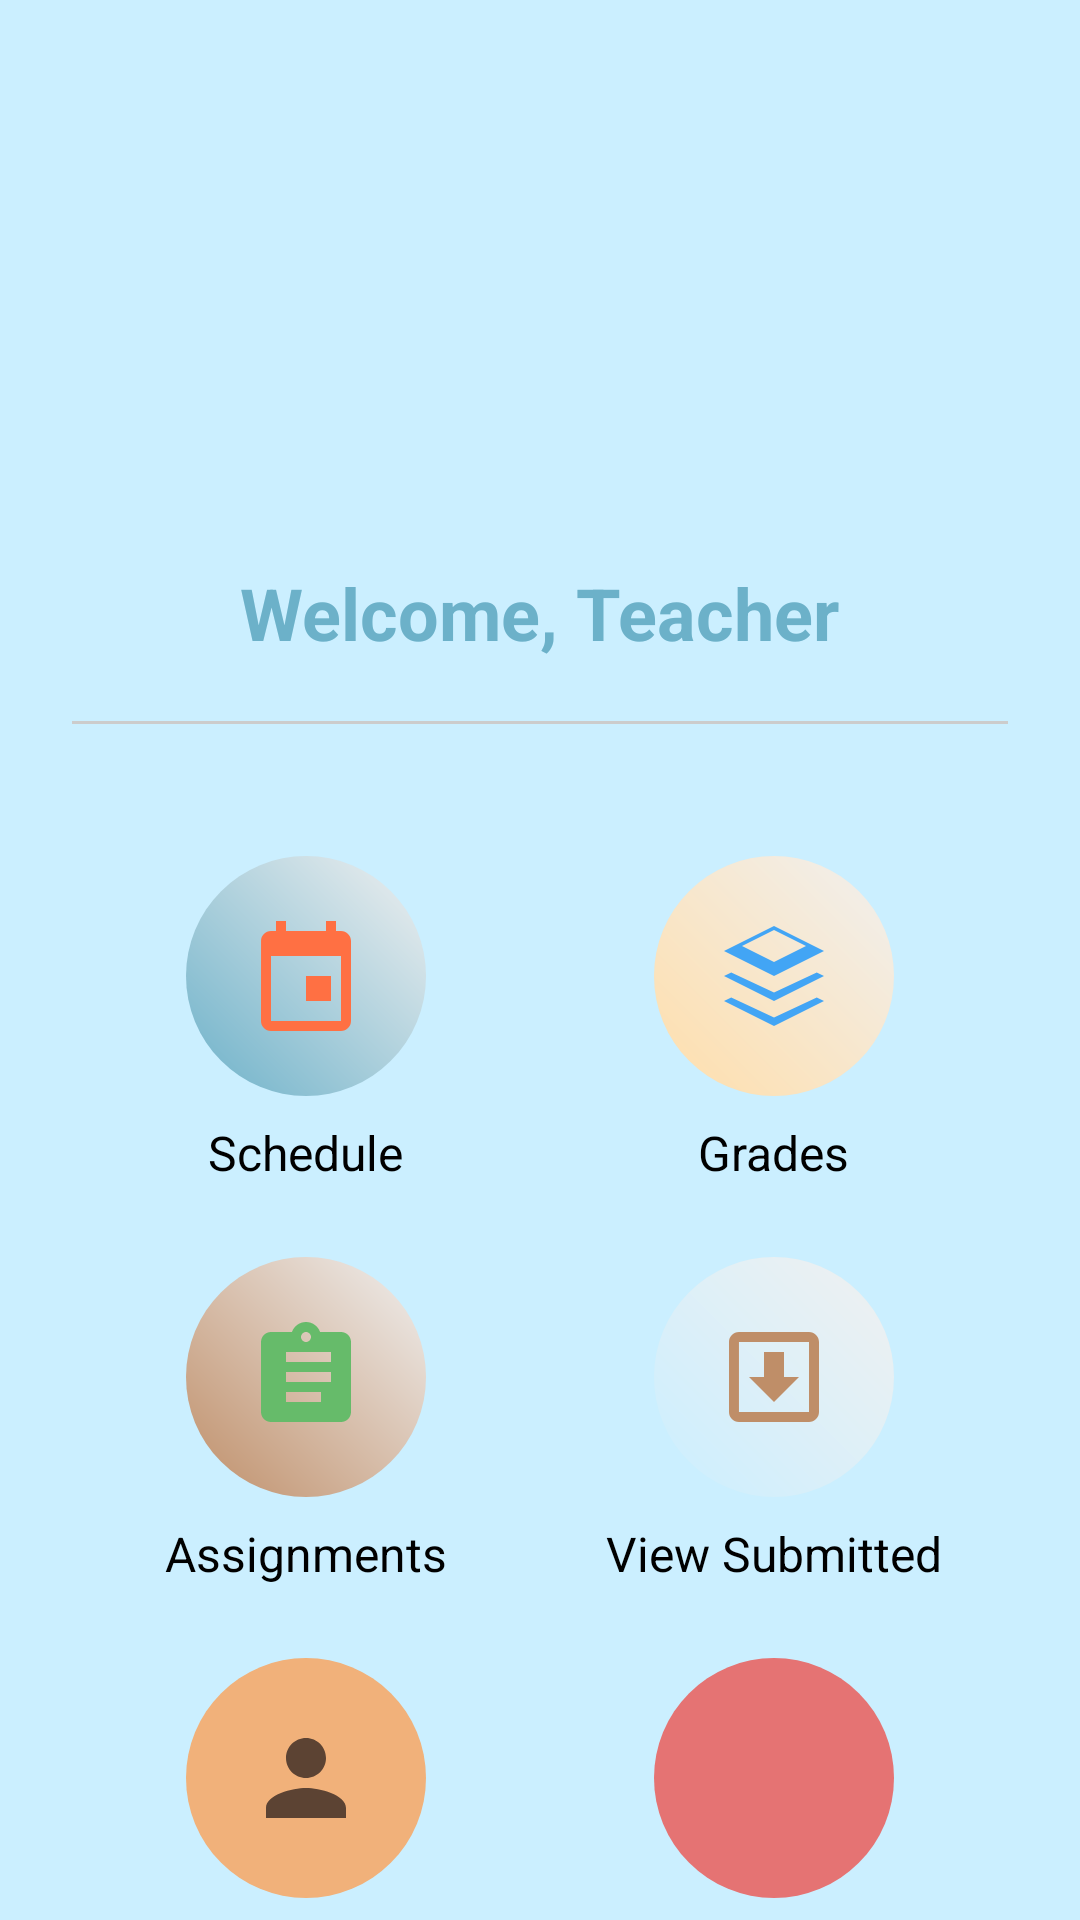

Screen size 1080×1920. Icon name, then its box in pixels as (left=x1, top=y1, right=x2, bottom=y2):
Profile: (left=186, top=1658, right=426, bottom=1898)
